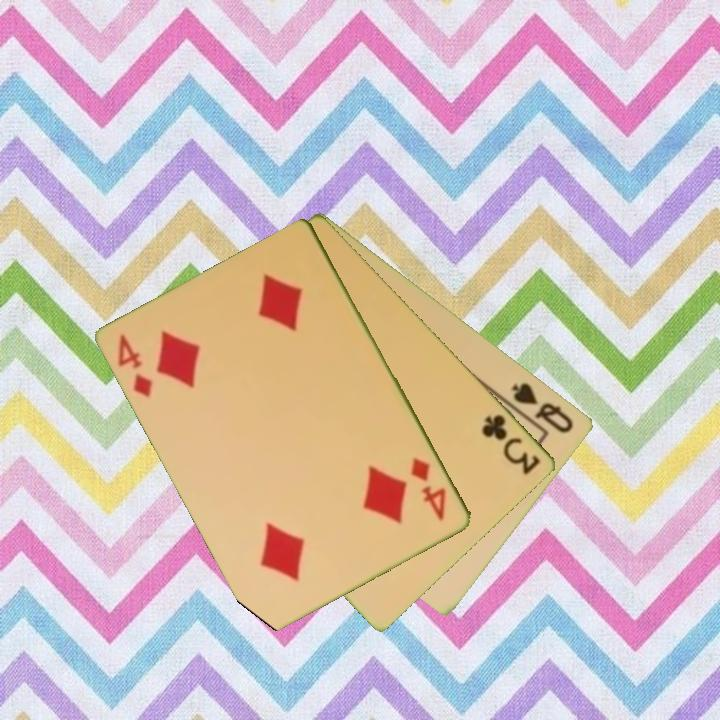3c: (478, 410, 544, 478)
4d: (407, 453, 450, 524), (115, 331, 156, 401)
Qs: (508, 379, 577, 437)
